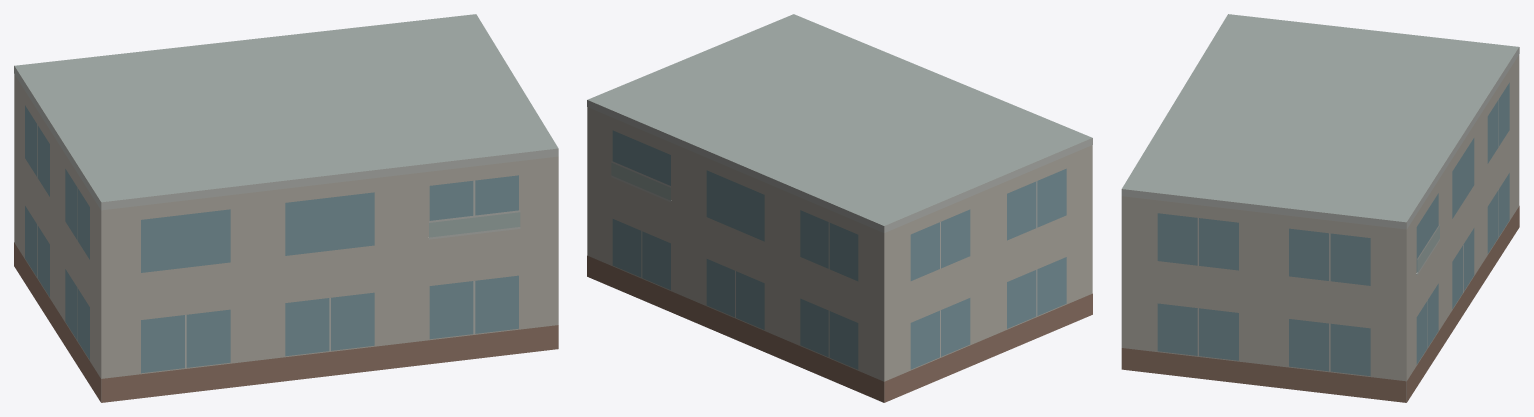
Rendered from survey-upis-32655057.glb.
3 views of the same model, side by side, from view 1: azimuth 30°, elevation 25°; view 2: azimuth 150°, elevation 25°; view 3: azimuth 270°, elevation 25° (orthographic). The views are drawn at different scales.
Visible parts, largest first — view 1: survey-upis-32655057.tmp; view 2: survey-upis-32655057.tmp; view 3: survey-upis-32655057.tmp.
Boxes of the visible parts, left/top/right/bottom form: survey-upis-32655057.tmp: left=14, top=14, right=558, bottom=402; survey-upis-32655057.tmp: left=587, top=14, right=1092, bottom=402; survey-upis-32655057.tmp: left=1121, top=14, right=1519, bottom=402.
Bounding box in the file's own units: 15.11 × 6.1 × 12.19.
